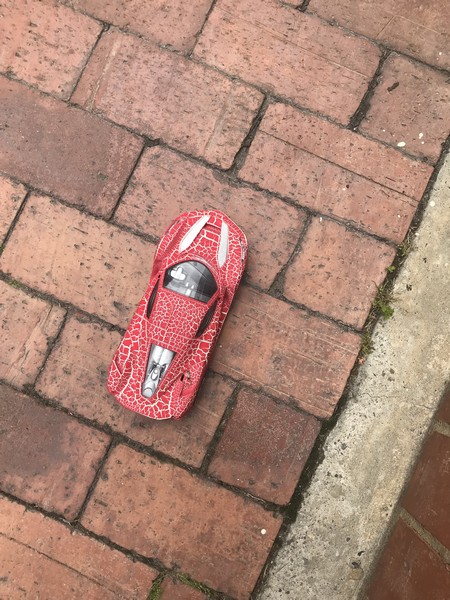RC: (105, 208, 250, 424)
